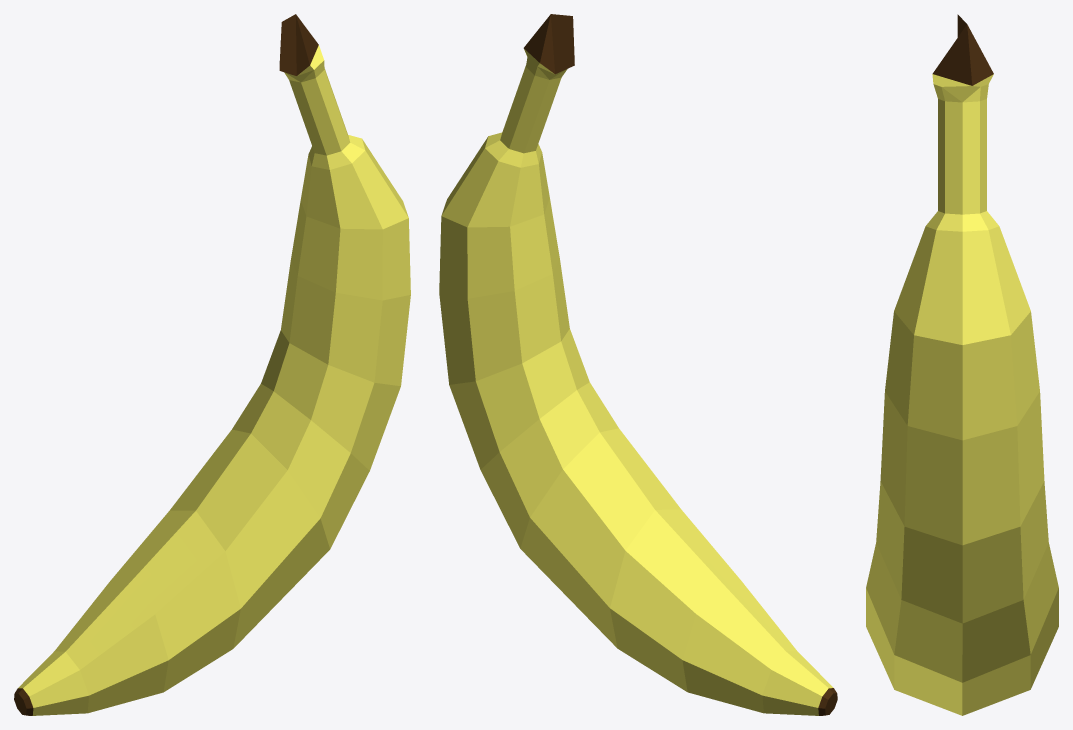
The model's file is bananaanim.glb.
3 renders of one model, left to right at view 1: azimuth 30°, elevation 25°; view 2: azimuth 150°, elevation 25°; view 3: azimuth 270°, elevation 25°, orthographic. The views are drawn at different scales.
Visible parts, largest first — view 1: banana; view 2: banana; view 3: banana.
Part boxes in pixels (x1,y1,x2,y2): banana: (14, 14, 410, 715); banana: (439, 14, 837, 715); banana: (866, 14, 1058, 715).
Bounding box in the file's own units: 0.3733 × 0.5953 × 0.1325.
